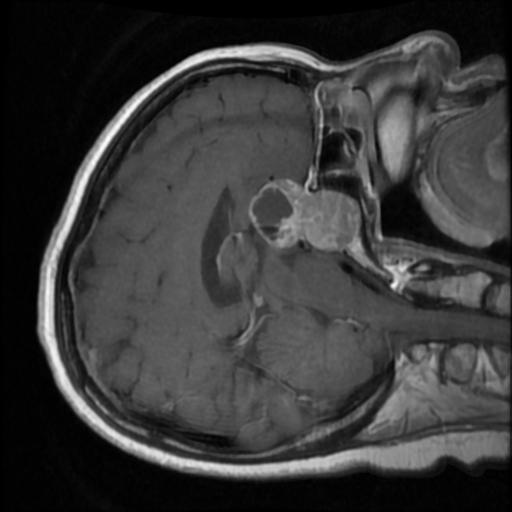pituitary tumour: (247, 179, 360, 250)
